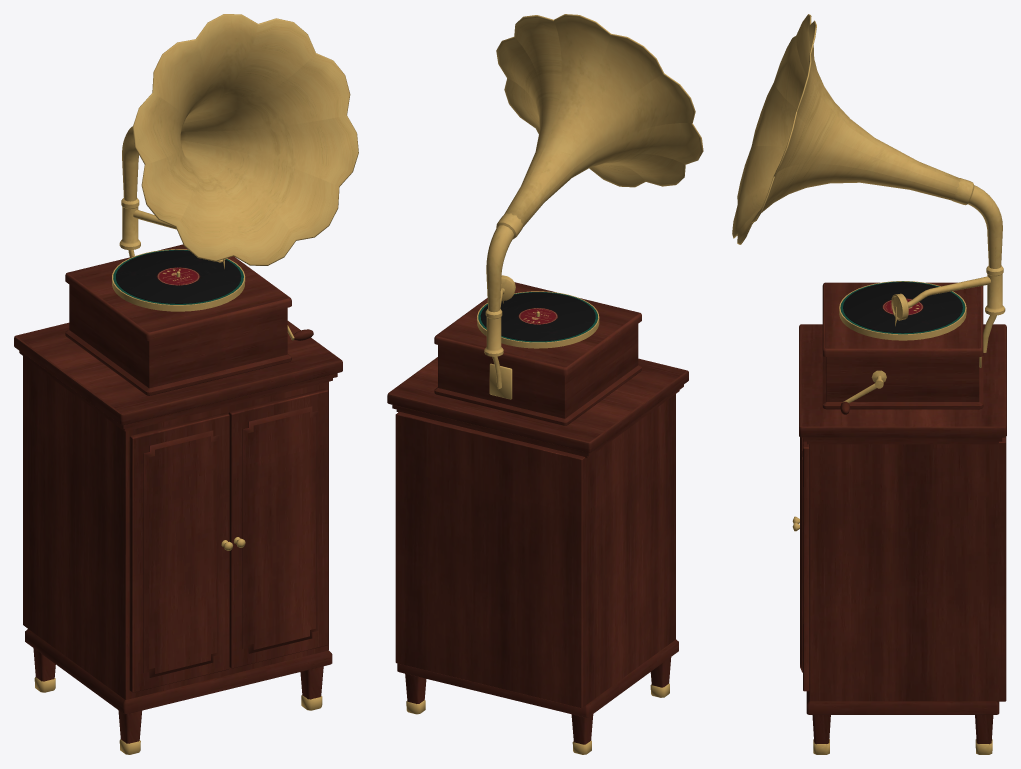
File: Gramophone.glb
The picture shows the model from 3 angles, left to right: view 1: azimuth 30°, elevation 25°; view 2: azimuth 150°, elevation 25°; view 3: azimuth 270°, elevation 25°; orthographic projection. The views are drawn at different scales.
Visible parts, largest first — view 1: Gramophone_Wood, Gramophone_Brass, Gramophone_Record; view 2: Gramophone_Wood, Gramophone_Brass, Gramophone_Record; view 3: Gramophone_Wood, Gramophone_Brass, Gramophone_Record, Gramophone_Felt.
Part boxes in pixels (x1,y1,x2,y2): Gramophone_Wood: (14, 244, 342, 743); Gramophone_Brass: (34, 14, 358, 754); Gramophone_Record: (116, 250, 241, 303); Gramophone_Wood: (387, 282, 688, 744); Gramophone_Brass: (406, 14, 703, 754); Gramophone_Record: (480, 292, 595, 341); Gramophone_Wood: (799, 282, 1006, 744); Gramophone_Brass: (732, 14, 1005, 754); Gramophone_Record: (843, 282, 962, 333); Gramophone_Felt: (840, 281, 965, 334).
Bounding box in the file's own units: 0.52 × 1.6 × 0.5817.
4 materials, 4 textured.
